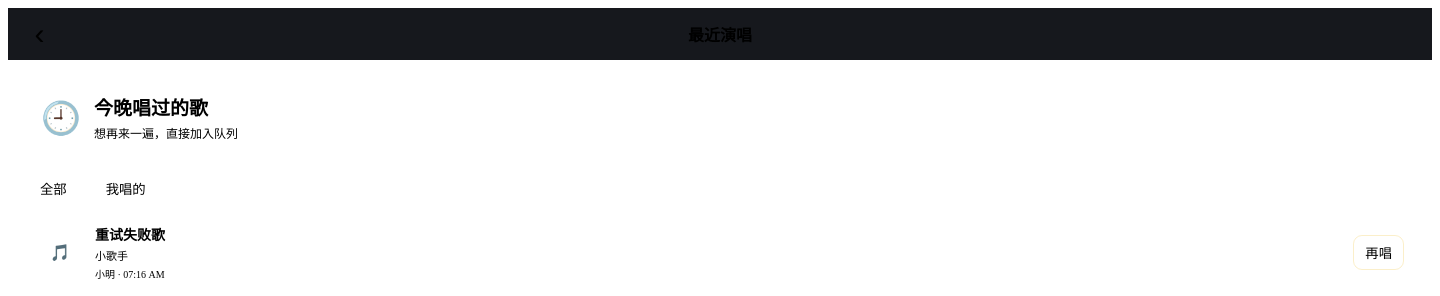
RecentHistoryView › reports ordinary repeat failures and reloads when the history revision changes
Click the button "再唱": (1379,252) top-left (1353, 235), bottom-right (1404, 270)
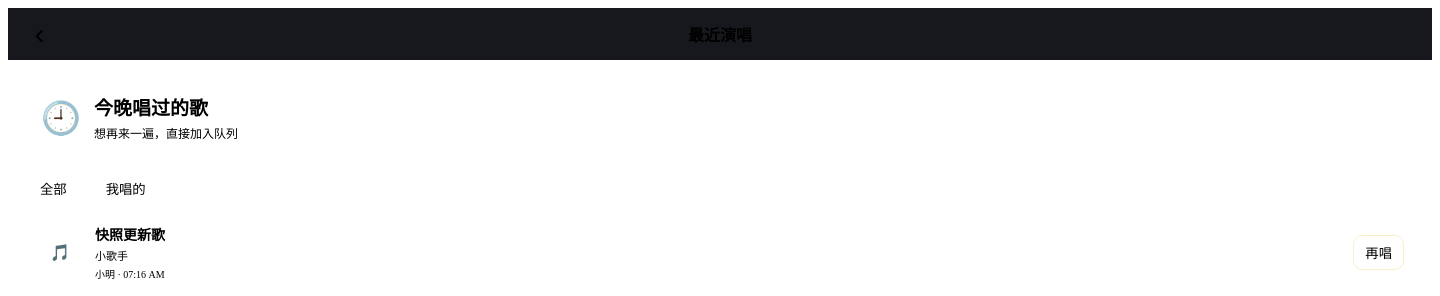
Expected: the text "快照更新歌" is shown, top-left (95, 228), bottom-right (165, 243)
